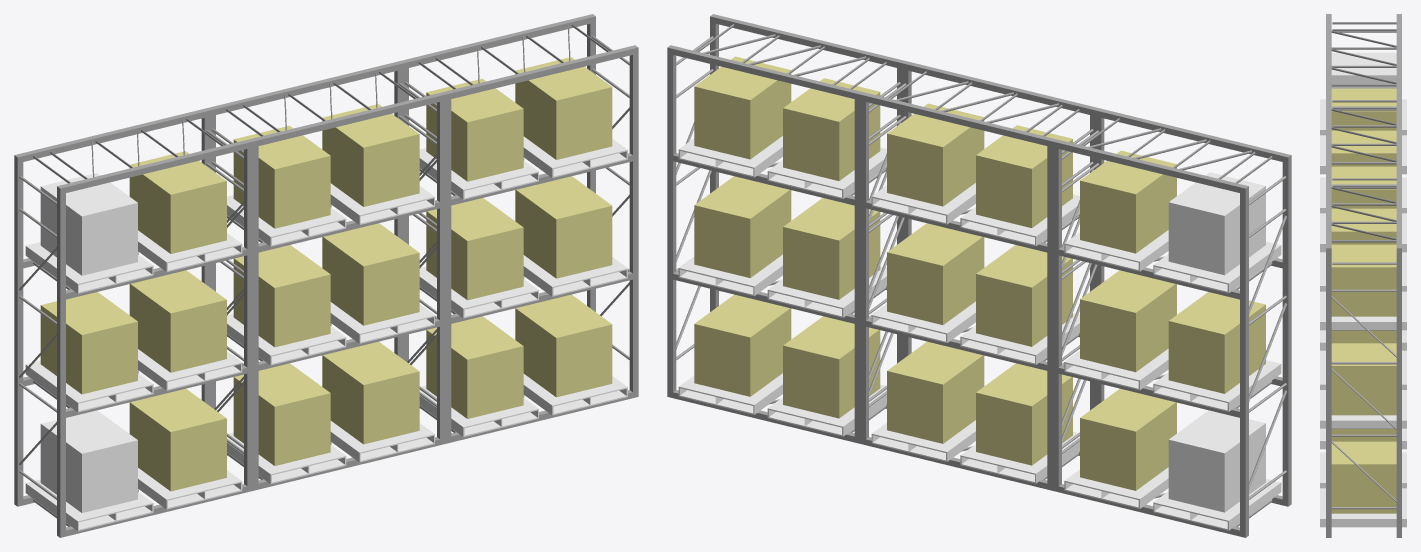
File: rack_3d_1535.glb
3 views of the same model, side by side, from view 1: azimuth 30°, elevation 25°; view 2: azimuth 150°, elevation 25°; view 3: azimuth 270°, elevation 25° (orthographic). The views are drawn at different scales.
Parts seen in each view (by area): view 1: rack1, 18, 16, 10, 12, 14, 8, 13, 6, 4, 2, 7 (+7 smaller); view 2: rack1, 18, 16, 10, 12, 14, 8, 6, 4, 13, 7, 2 (+7 smaller); view 3: rack1, 6, 18, 12, 4, 2, 3, 5, 1, 11, 17.
Part boxes in pixels (left/top/right/bottom): rack1: left=14, top=14, right=638, bottom=537; 18: left=515, top=294, right=612, bottom=397; 16: left=322, top=341, right=419, bottom=444; 10: left=322, top=223, right=419, bottom=325; 12: left=515, top=176, right=612, bottom=278; 14: left=129, top=388, right=226, bottom=491; 8: left=129, top=270, right=226, bottom=372; 13: left=40, top=410, right=137, bottom=512; 6: left=515, top=57, right=612, bottom=159; 4: left=322, top=104, right=419, bottom=206; 2: left=129, top=151, right=226, bottom=253; 7: left=40, top=292, right=137, bottom=394; rack1: left=667, top=14, right=1291, bottom=537; 18: left=694, top=294, right=791, bottom=396; 16: left=887, top=341, right=984, bottom=443; 10: left=887, top=223, right=984, bottom=324; 12: left=694, top=176, right=791, bottom=277; 14: left=1080, top=388, right=1176, bottom=490; 8: left=1080, top=270, right=1176, bottom=372; 6: left=694, top=56, right=791, bottom=159; 4: left=887, top=103, right=984, bottom=206; 13: left=1168, top=410, right=1265, bottom=512; 7: left=1168, top=292, right=1265, bottom=393; 2: left=1080, top=150, right=1176, bottom=253; rack1: left=1320, top=14, right=1406, bottom=537; 6: left=1331, top=244, right=1396, bottom=316; 18: left=1331, top=441, right=1396, bottom=513; 12: left=1331, top=343, right=1396, bottom=415; 4: left=1331, top=166, right=1396, bottom=208; 2: left=1331, top=88, right=1396, bottom=130; 3: left=1331, top=130, right=1396, bottom=166; 5: left=1331, top=208, right=1396, bottom=244; 1: left=1331, top=52, right=1396, bottom=88; 11: left=1331, top=330, right=1396, bottom=343; 17: left=1331, top=429, right=1396, bottom=441.
Size of the model in its own units: 306 by 177 by 48.
